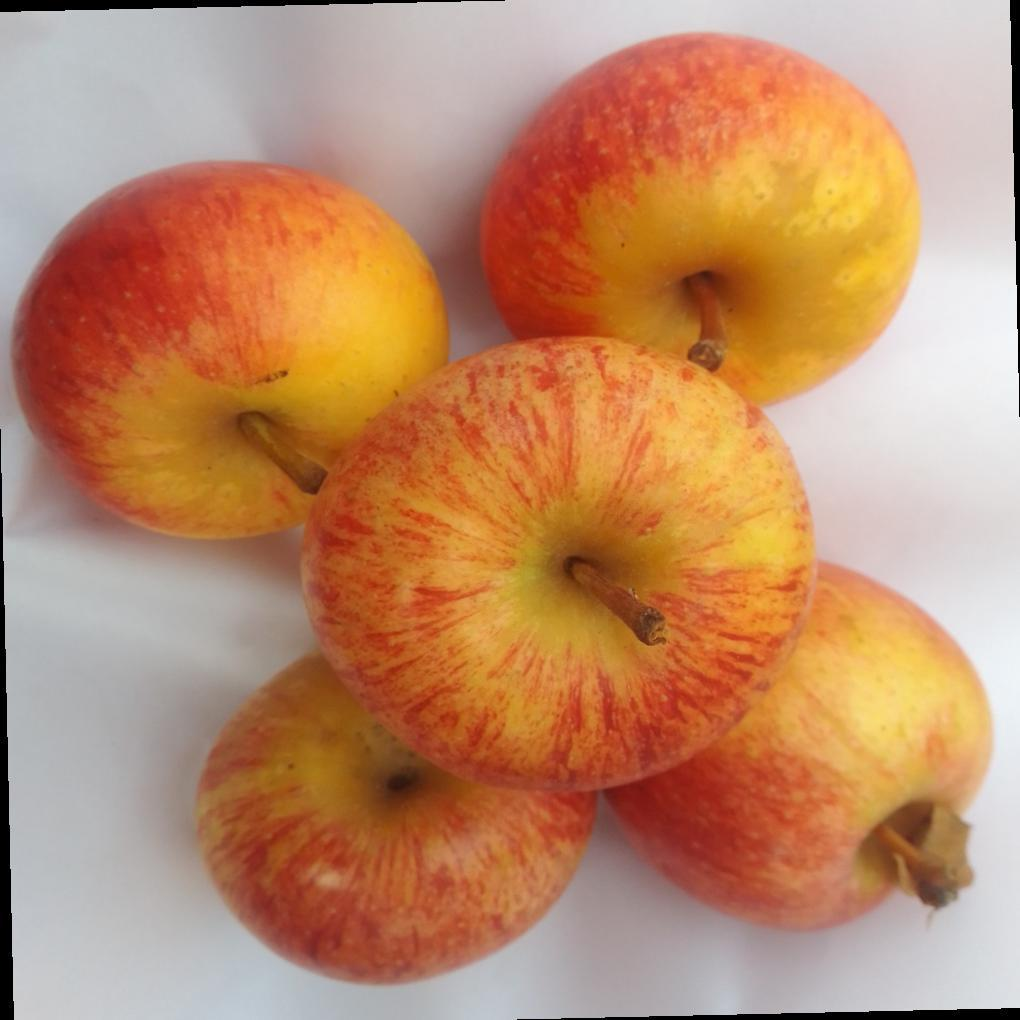FreshGuava: (9, 32, 995, 989)
